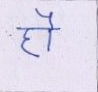au_matra: (37, 8, 58, 51)
